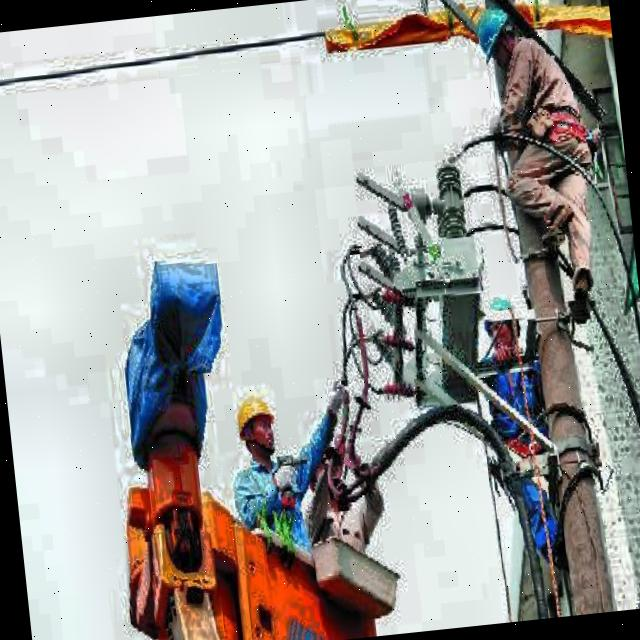helmet: (462, 1, 525, 72), (232, 385, 282, 464), (479, 276, 526, 359)
